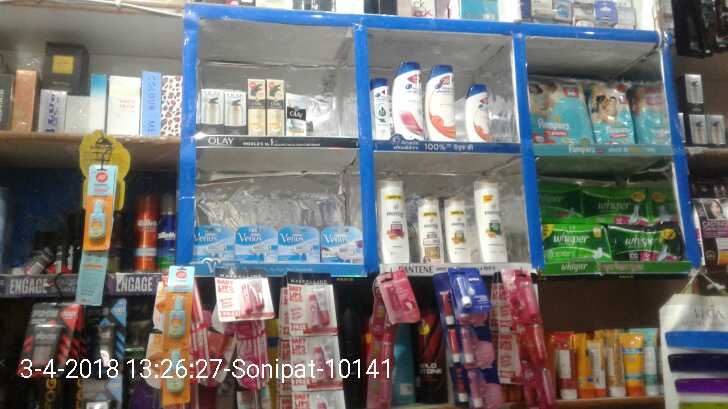gillete: (135, 192, 158, 272), (159, 192, 178, 274)
venus: (193, 224, 235, 264), (278, 224, 321, 262), (322, 224, 365, 262), (236, 225, 275, 264)
